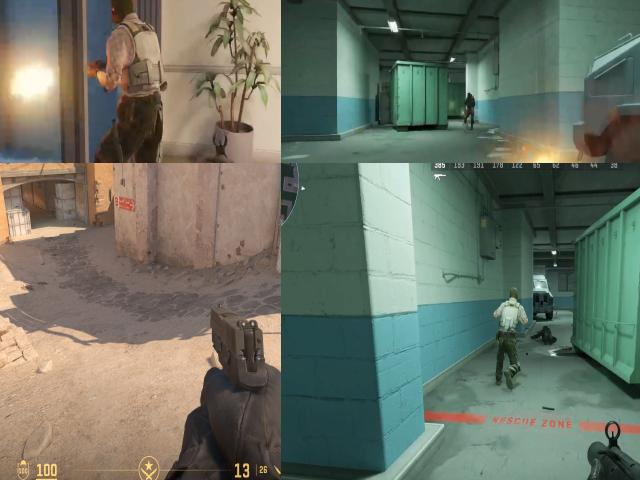CT: (463, 88, 477, 133)
CT-Head: (466, 90, 474, 101)
Dead: (532, 321, 556, 348)
T: (99, 0, 166, 118), (494, 285, 527, 339)
T-Head: (109, 0, 141, 26), (505, 286, 520, 304)
